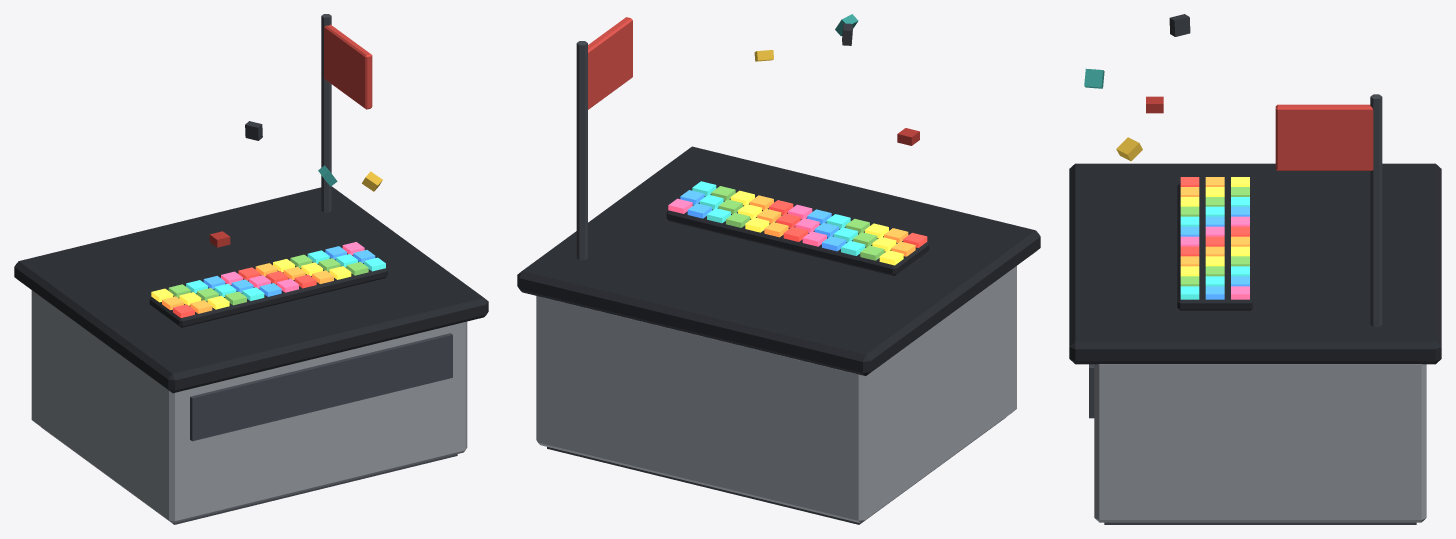
File: keyboardsmash_p0_4.glb
The picture shows the model from 3 angles, left to right: view 1: azimuth 30°, elevation 25°; view 2: azimuth 150°, elevation 25°; view 3: azimuth 270°, elevation 25°; orthographic projection. The views are drawn at different scales.
Parts seen in each view (by area): view 1: keyboardsmash_p0_4_mesh_Desk, keyboardsmash_p0_4_mesh; view 2: keyboardsmash_p0_4_mesh_Desk, keyboardsmash_p0_4_mesh; view 3: keyboardsmash_p0_4_mesh_Desk, keyboardsmash_p0_4_mesh.
Part boxes in pixels (left/top/right/bottom): keyboardsmash_p0_4_mesh_Desk: left=14, top=186, right=488, bottom=524; keyboardsmash_p0_4_mesh: left=149, top=14, right=387, bottom=327; keyboardsmash_p0_4_mesh_Desk: left=517, top=146, right=1040, bottom=524; keyboardsmash_p0_4_mesh: left=576, top=14, right=929, bottom=275; keyboardsmash_p0_4_mesh_Desk: left=1069, top=163, right=1441, bottom=524; keyboardsmash_p0_4_mesh: left=1084, top=14, right=1382, bottom=326.
Bounding box in the file's own units: 0.86 × 0.92 × 0.74.
